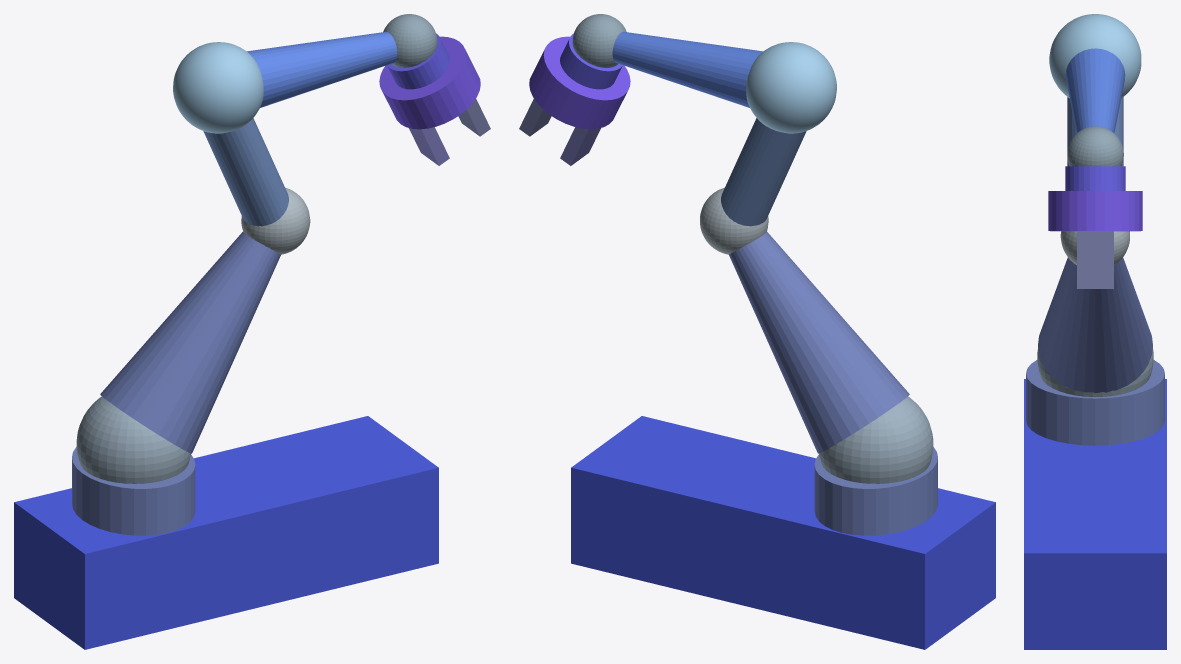
3 views of the same model, side by side, from view 1: azimuth 30°, elevation 25°; view 2: azimuth 150°, elevation 25°; view 3: azimuth 270°, elevation 25° (orthographic).
Parts seen in each view (by area): view 1: 立方体.002, 锥体.001, 柱体.003, 球体, 球体.003, 锥体, 柱体.002, 柱体.001, 球体.002, 球体.001, 柱体, 立方体; view 2: 立方体.002, 锥体.001, 柱体.003, 球体, 球体.003, 锥体, 柱体.002, 柱体.001, 球体.002, 球体.001, 柱体, 立方体; view 3: 立方体.002, 锥体.001, 柱体.003, 锥体, 球体, 柱体.001, 立方体.001, 球体.001, 柱体, 球体.003, 球体.002, 柱体.002.
Part boxes in pixels (x1,y1,x2,y2): 立方体.002: (14, 416, 438, 649); 锥体.001: (100, 231, 280, 453); 柱体.003: (72, 447, 195, 535); 球体: (173, 42, 263, 133); 球体.003: (76, 396, 190, 483); 锥体: (247, 32, 397, 107); 柱体.002: (203, 118, 288, 226); 柱体.001: (379, 36, 480, 129); 球体.002: (241, 187, 310, 254); 球体.001: (383, 14, 437, 67); 柱体: (387, 33, 449, 89); 立方体: (409, 127, 449, 165); 立方体.002: (571, 416, 995, 649); 锥体.001: (729, 232, 909, 453); 柱体.003: (814, 447, 937, 535); 球体: (746, 42, 836, 133); 球体.003: (819, 396, 933, 483); 锥体: (612, 32, 762, 107); 柱体.002: (721, 118, 806, 226); 柱体.001: (529, 36, 630, 129); 球体.002: (700, 187, 768, 254); 球体.001: (572, 14, 626, 67); 柱体: (560, 33, 622, 89); 立方体: (560, 127, 600, 165); 立方体.002: (1024, 379, 1166, 649); 锥体.001: (1038, 257, 1152, 393); 柱体.003: (1026, 360, 1164, 445); 锥体: (1065, 48, 1125, 132); 球体: (1049, 14, 1141, 97); 柱体.001: (1048, 191, 1142, 231); 立方体.001: (1077, 231, 1113, 288); 球体.001: (1067, 126, 1123, 166); 柱体: (1065, 166, 1125, 190); 球体.003: (1037, 347, 1153, 396); 球体.002: (1060, 231, 1129, 265); 柱体.002: (1067, 97, 1123, 166).
Size of the model in its own units: 919 by 1090 by 261.
